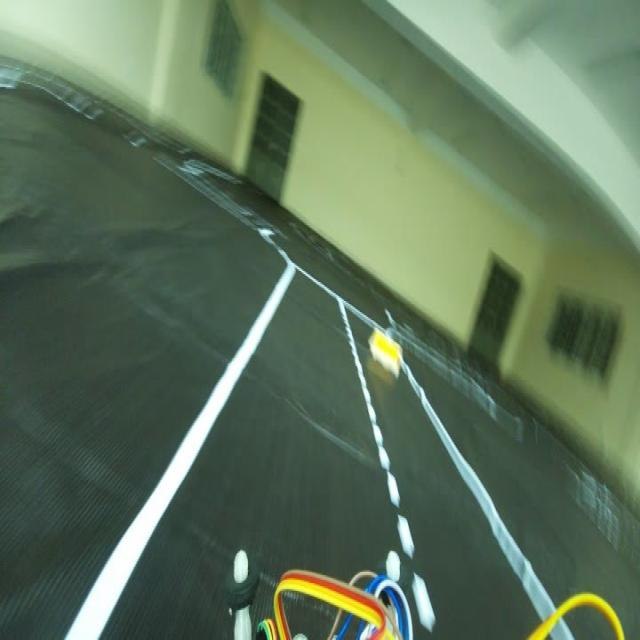roadblock: (364, 324, 407, 383)
